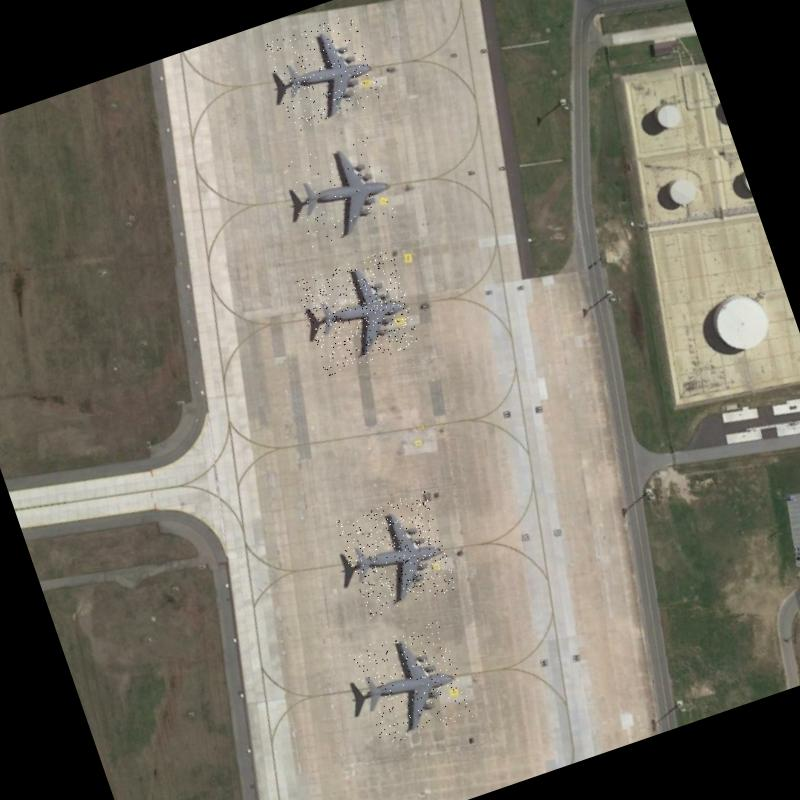A3: (294, 248, 424, 376), (347, 620, 474, 748), (334, 489, 458, 620), (262, 12, 388, 134), (280, 132, 403, 248)
